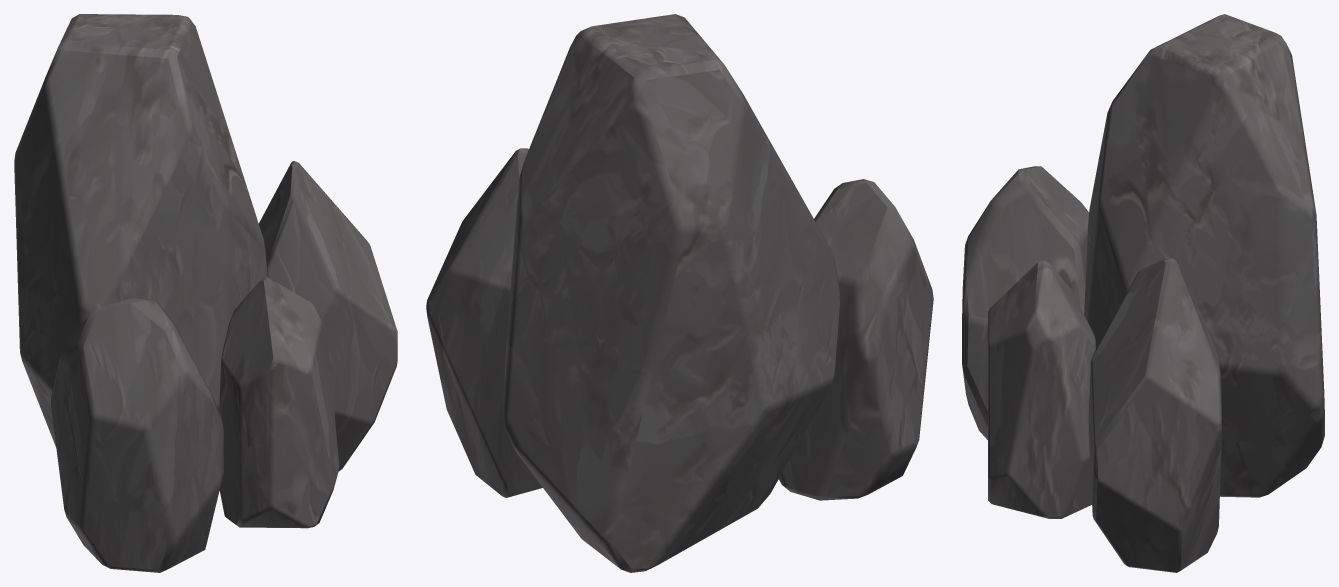
The model's file is Rock.fbx.
3 views of the same model, side by side, from view 1: azimuth 30°, elevation 25°; view 2: azimuth 150°, elevation 25°; view 3: azimuth 270°, elevation 25° (orthographic). The views are drawn at different scales.
Parts seen in each view (by area): view 1: pCube135, pCube138, pCube136, pCube137; view 2: pCube135, pCube138, pCube137; view 3: pCube135, pCube137, pCube136, pCube138.
Boxes of the visible parts, x1,y1,x2,y2 form: pCube135: (14, 14, 267, 447); pCube138: (51, 298, 223, 572); pCube136: (219, 277, 339, 528); pCube137: (259, 161, 397, 471); pCube135: (502, 14, 839, 572); pCube138: (779, 179, 933, 500); pCube137: (426, 148, 542, 497); pCube135: (1084, 14, 1324, 497); pCube137: (1088, 258, 1221, 572); pCube136: (988, 259, 1095, 518); pCube138: (962, 166, 1088, 439).
Bounding box in the file's own units: 15.5 × 18.79 × 13.87.
